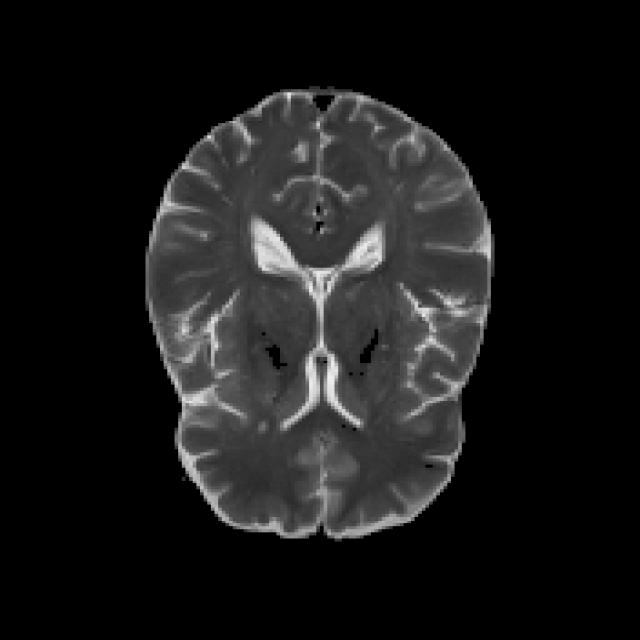CONTROL: (142, 83, 494, 539)
